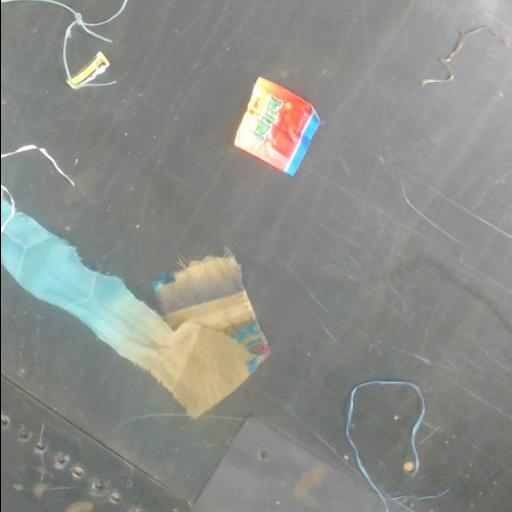cloth: (1, 194, 268, 417)
conveyor belt: (1, 0, 512, 511)
packet: (233, 77, 320, 175), (67, 52, 109, 88)
thread: (1, 0, 127, 88), (345, 381, 424, 511), (421, 26, 506, 84)
